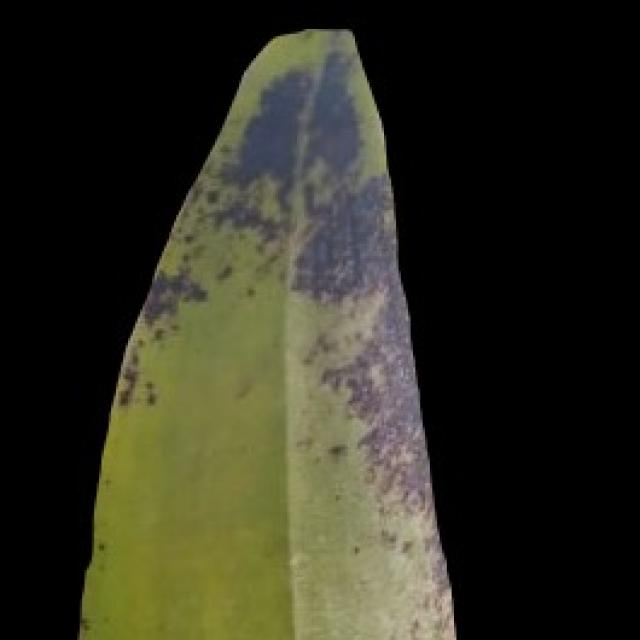mite: (109, 46, 391, 413), (114, 254, 389, 485), (111, 263, 208, 411), (157, 266, 208, 304), (321, 435, 350, 464), (87, 531, 111, 558), (343, 536, 365, 560), (140, 379, 157, 406), (215, 261, 234, 280), (326, 440, 345, 456), (77, 613, 92, 633), (150, 324, 167, 341), (348, 541, 362, 555), (94, 539, 106, 553)
spots: (63, 24, 466, 638)
